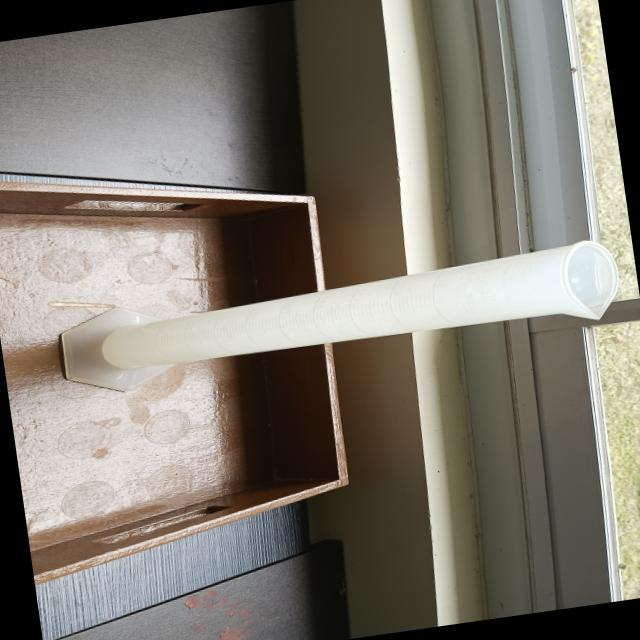graduated_cylinder: (46, 233, 628, 404)
